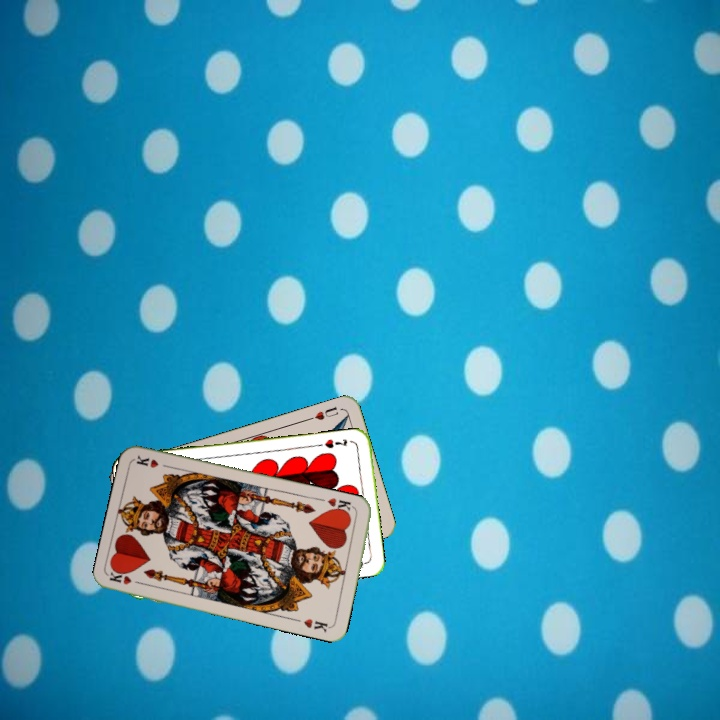H7: (320, 435, 350, 451)
HK: (106, 567, 147, 588), (324, 494, 358, 517)
HU: (304, 402, 341, 423)
